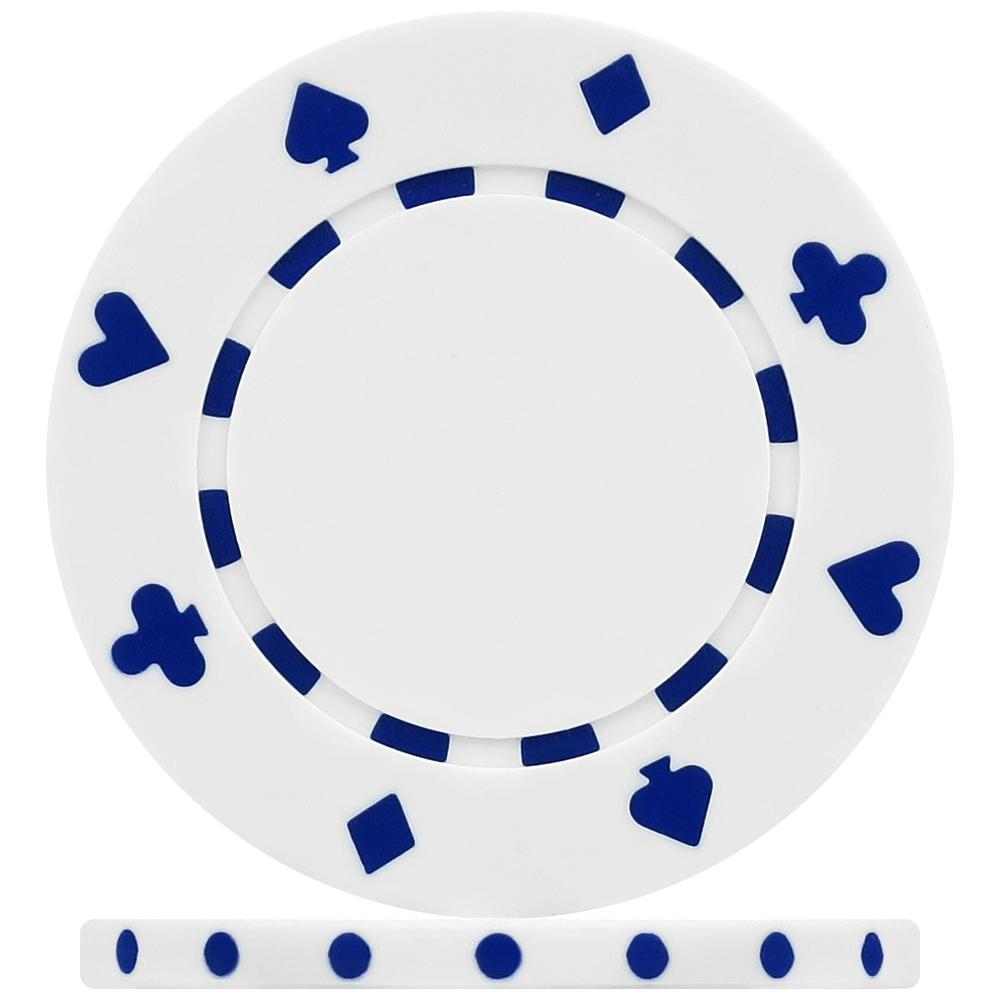chip-white: (51, 16, 949, 915), (80, 918, 920, 988)
